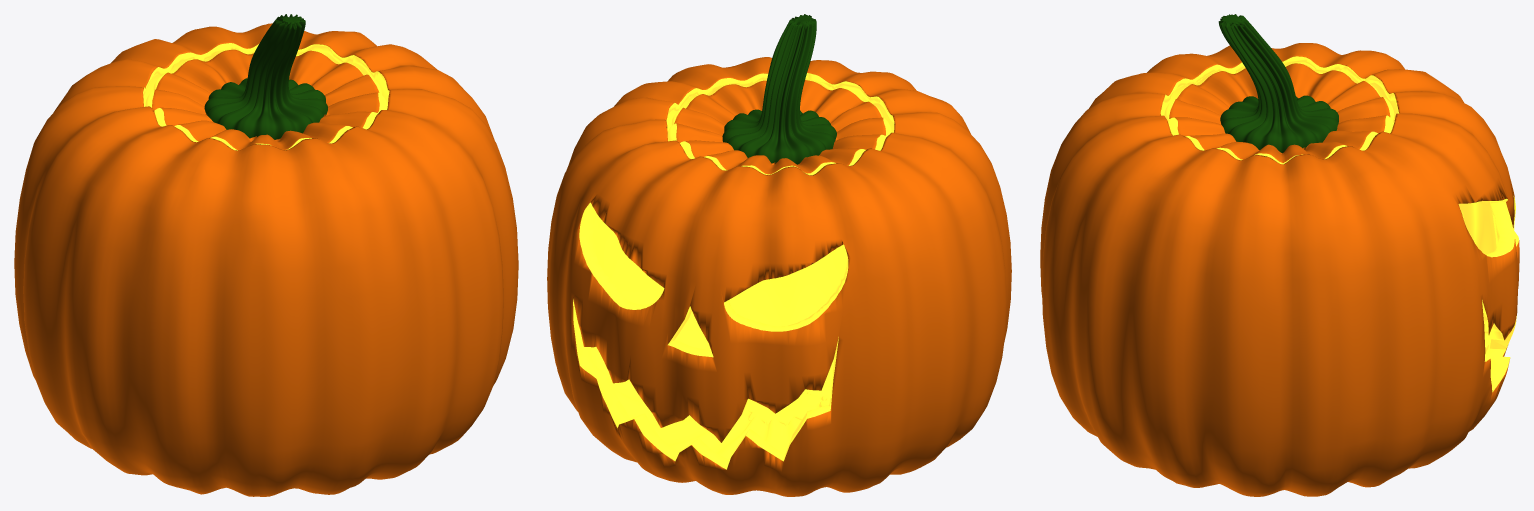
Rendered from Bad Jack.fbx.
The picture shows the model from 3 angles, left to right: view 1: azimuth 30°, elevation 25°; view 2: azimuth 150°, elevation 25°; view 3: azimuth 270°, elevation 25°; orthographic projection. The views are drawn at different scales.
Parts seen in each view (by area): view 1: Connect, Top; view 2: Connect, Top; view 3: Connect, Top.
Boxes of the visible parts, x1,y1,x2,y2 form: Connect: (14, 23, 518, 496); Top: (145, 14, 387, 150); Connect: (547, 57, 1011, 496); Top: (667, 14, 891, 175); Connect: (1040, 43, 1519, 496); Top: (1164, 14, 1394, 164).
Bounding box in the file's own units: 95.16 × 90.75 × 95.38.
